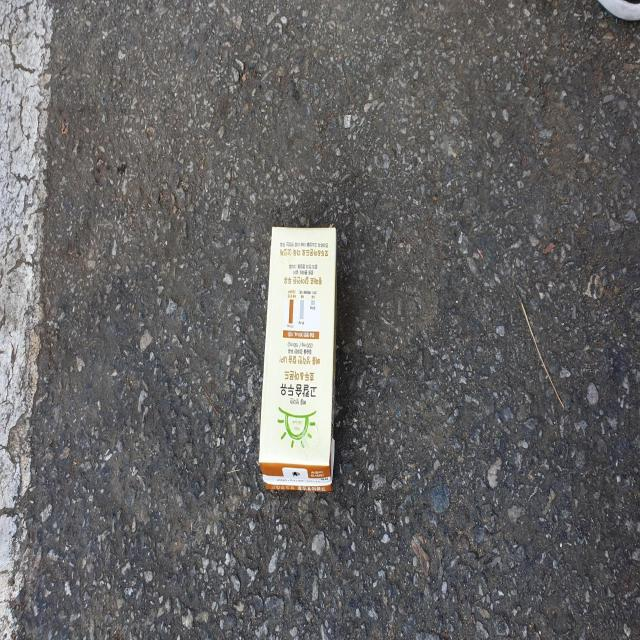paperpack: (259, 226, 336, 491)
